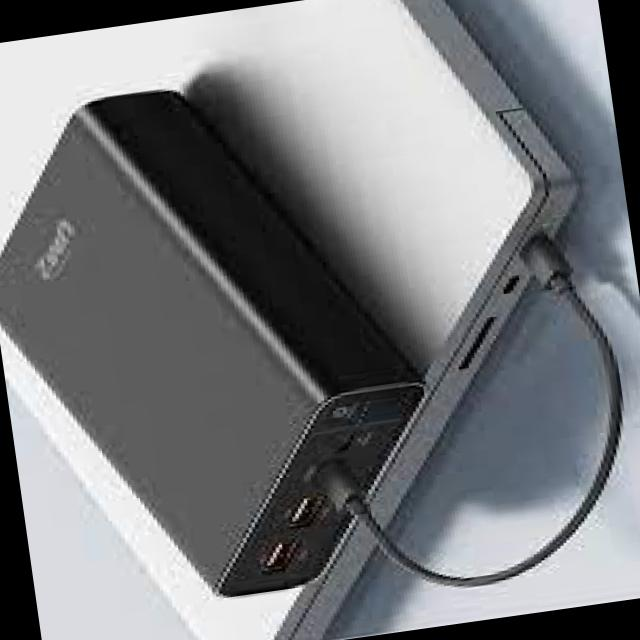portable-charger: (0, 55, 452, 619)
